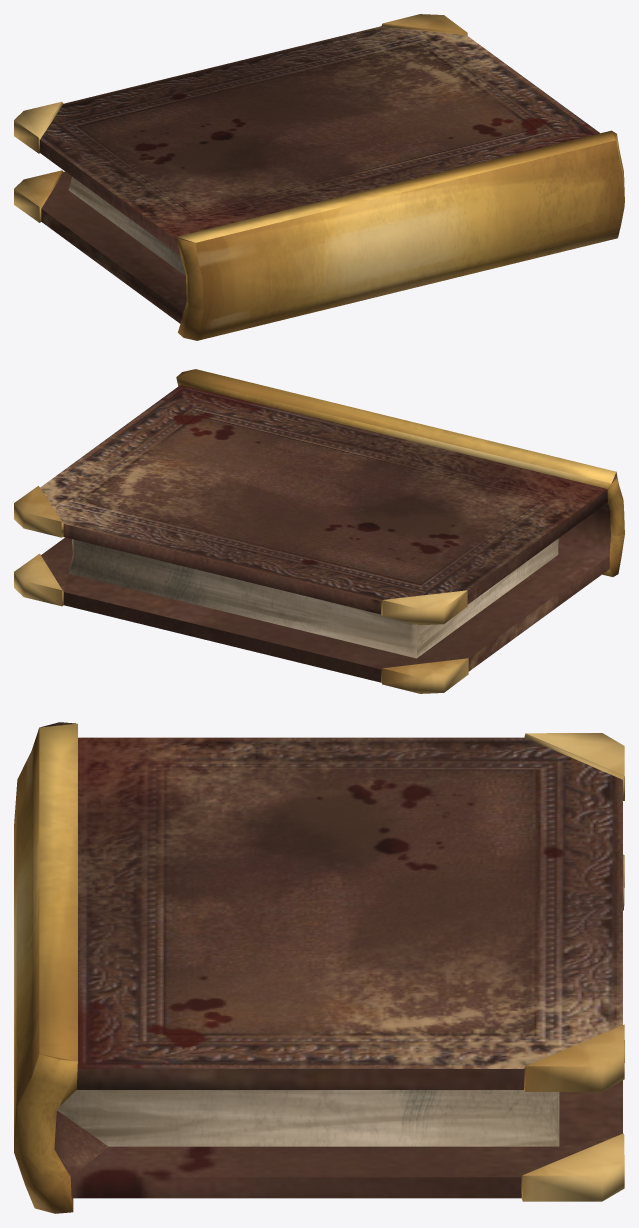
The model's file is Book_Detail_2.fbx.
3 views of the same model, one above another, from view 1: azimuth 30°, elevation 25°; view 2: azimuth 150°, elevation 25°; view 3: azimuth 270°, elevation 25° (orthographic). The views are drawn at different scales.
Parts seen in each view (by area): view 1: BookDetail; view 2: BookDetail; view 3: BookDetail.
Boxes of the visible parts, box(x1,y1,x2,y2) form: BookDetail: box(14, 14, 624, 340); BookDetail: box(14, 369, 624, 693); BookDetail: box(14, 722, 624, 1213).
Bounding box in the file's own units: 30.96 × 6.68 × 23.66.
Materials: 1 (1 with a texture image).
